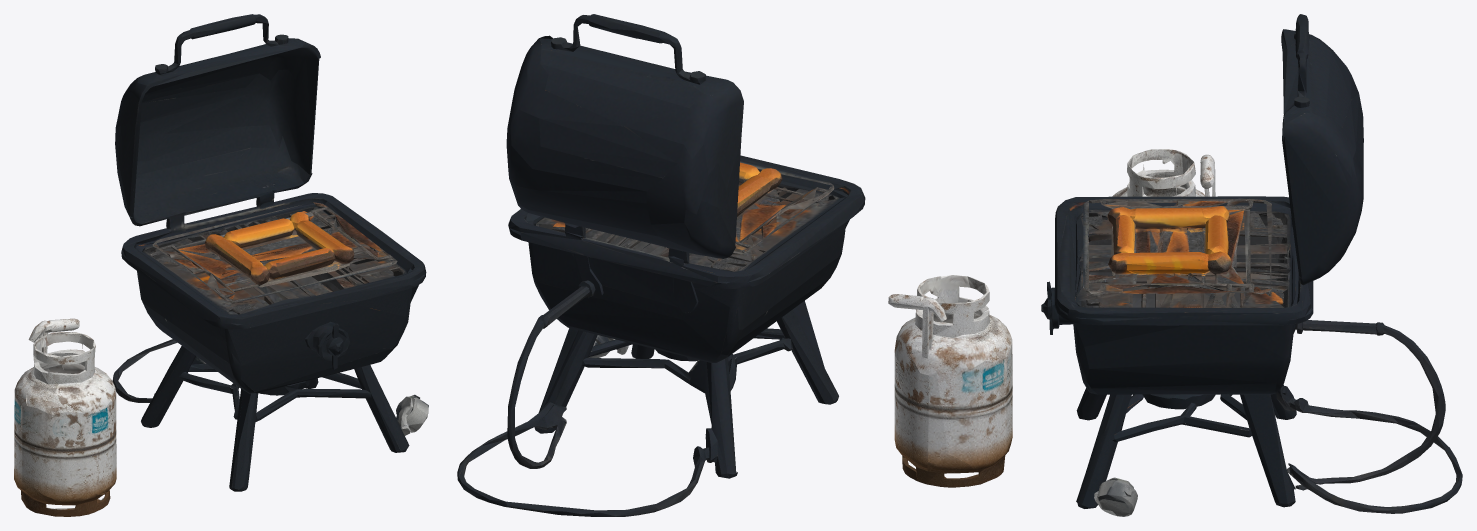
The picture shows the model from 3 angles, left to right: view 1: azimuth 30°, elevation 25°; view 2: azimuth 150°, elevation 25°; view 3: azimuth 270°, elevation 25°; orthographic projection. The views are drawn at different scales.
Size of the model in its own units: 1.9 by 1.78 by 1.59.
Materials: 1 (1 with a texture image).
